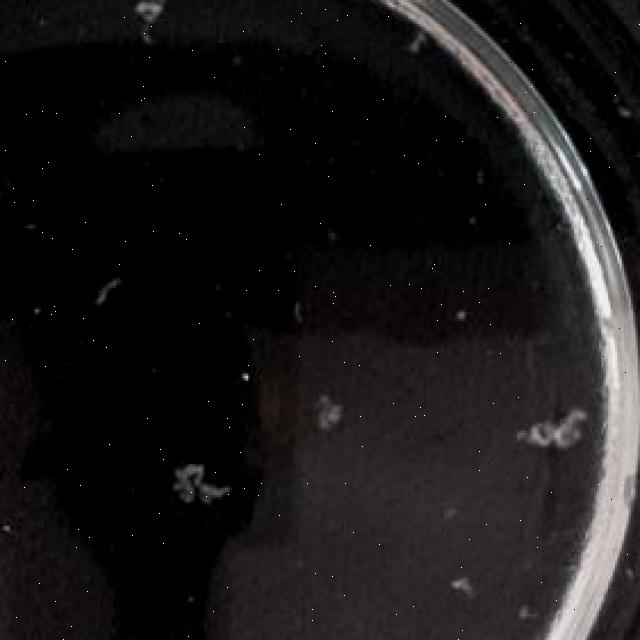Microplastic: (175, 457, 258, 516), (512, 402, 590, 464), (303, 383, 346, 443), (86, 264, 134, 317), (125, 0, 173, 48), (513, 590, 542, 633), (401, 24, 439, 55), (442, 571, 476, 604)
